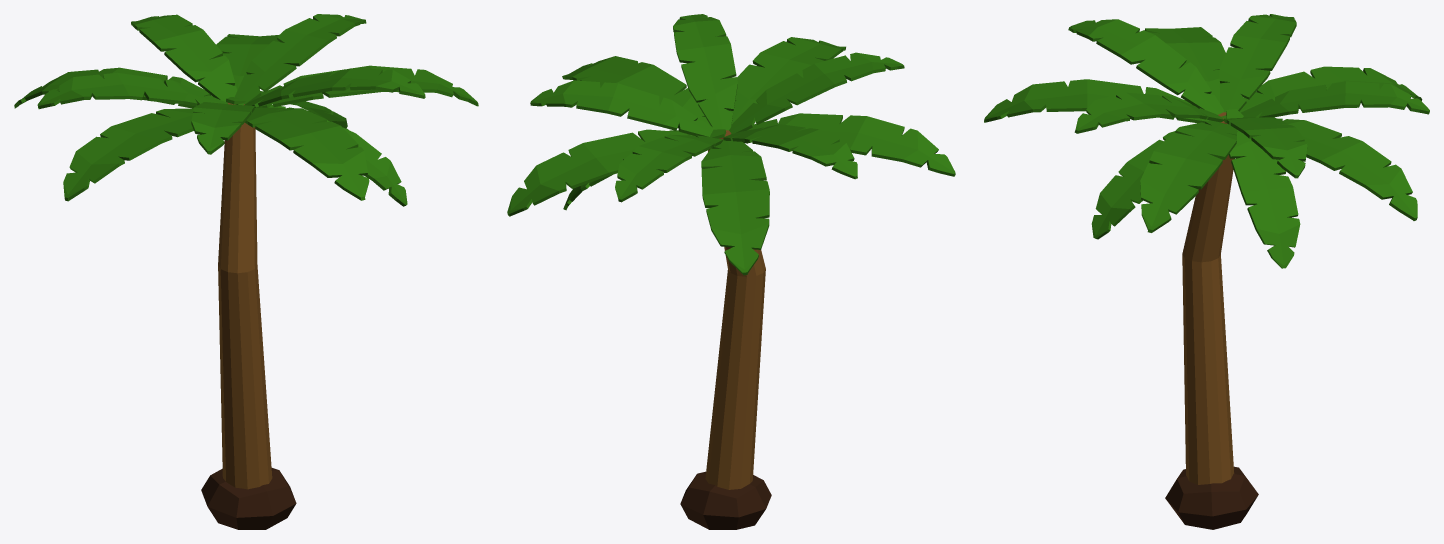
File: palm.obj
The picture shows the model from 3 angles, left to right: view 1: azimuth 30°, elevation 25°; view 2: azimuth 150°, elevation 25°; view 3: azimuth 270°, elevation 25°; orthographic projection. The views are drawn at different scales.
Parts seen in each view (by area): view 1: Plane.001, Cylinder.001; view 2: Plane.001, Cylinder.001; view 3: Plane.001, Cylinder.001.
Part boxes in pixels (left/top/right/bottom): Plane.001: left=14, top=14, right=478, bottom=206; Cylinder.001: left=201, top=102, right=296, bottom=529; Plane.001: left=507, top=14, right=955, bottom=275; Cylinder.001: left=680, top=130, right=771, bottom=529; Plane.001: left=984, top=14, right=1429, bottom=268; Cylinder.001: left=1165, top=112, right=1258, bottom=529.
Bounding box in the file's own units: 13.5 × 14.5 × 13.04.
